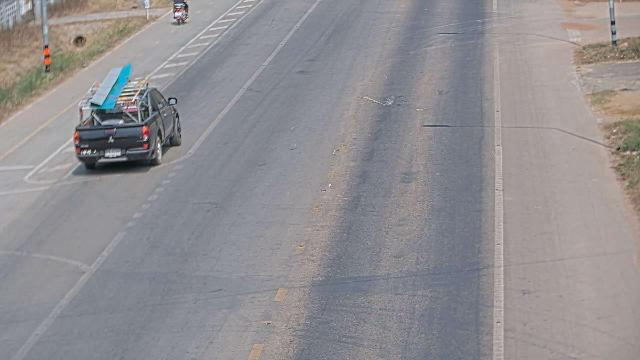pickup-truck: (72, 62, 182, 170)
